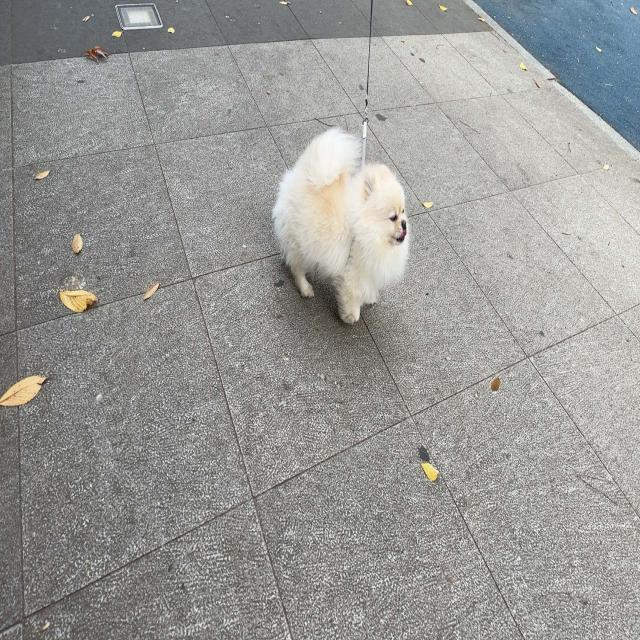Dog: (271, 127, 411, 326)
